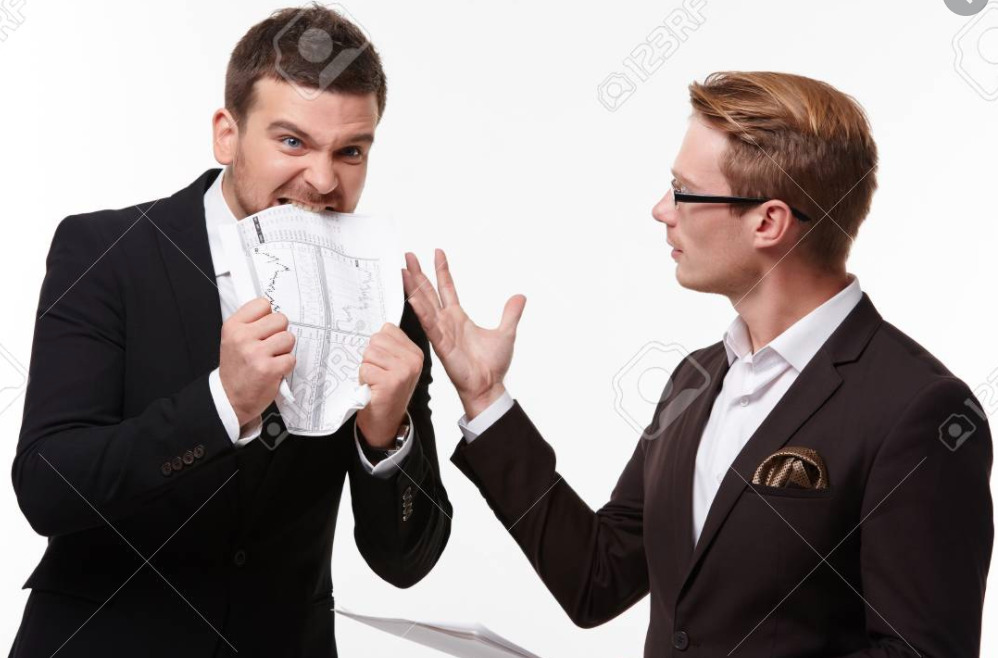Bad: (12, 7, 993, 657)
